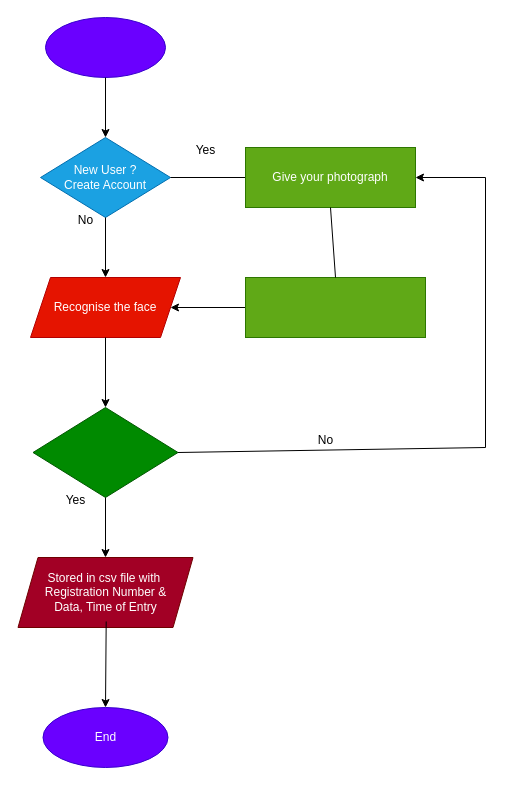
Image size: 511x785. Some labels were removed from this diagram. Here are the shapes that lost their labels. From the top down, the centre of each, then its label:
At (x=105, y=47): "Start".
At (x=335, y=307): "Store the face data in folder on your name".
At (x=105, y=452): "Face Recognised".
